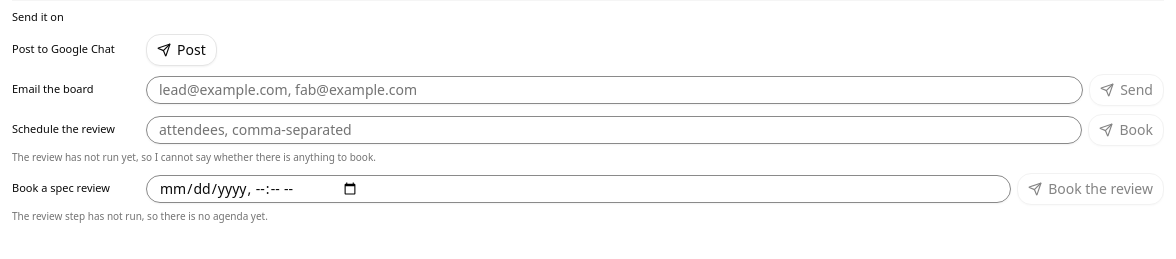
DeliverPanel › posts to Chat and reports the engine's answer
Click the button with test id "deliver-chat". click: x=181, y=50
box: left=146, top=34, right=217, bottom=66
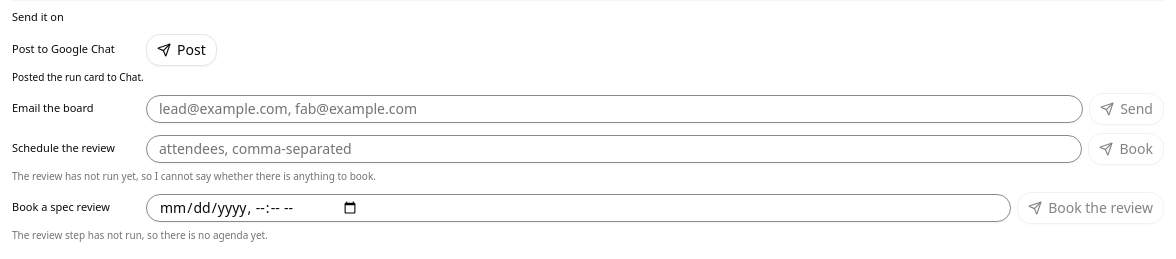
Now the text with test id "deliver-result" reads "Posted the run card to Chat.", box left=12, top=70, right=144, bottom=84
